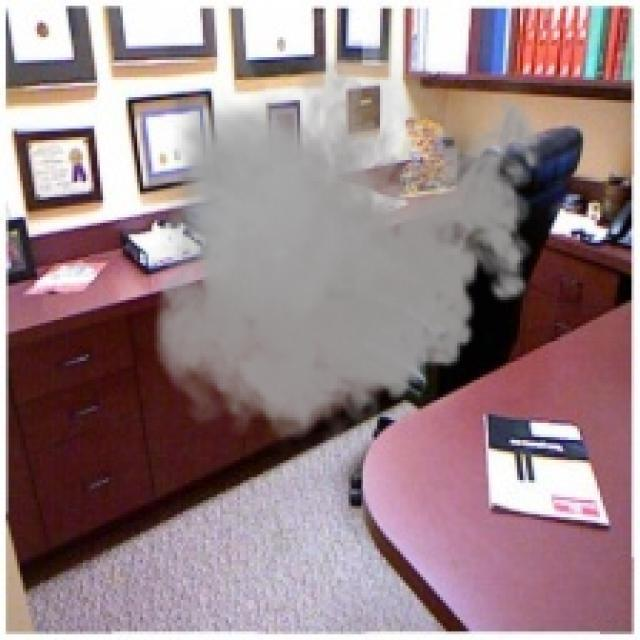Smoke: (140, 32, 554, 454)
